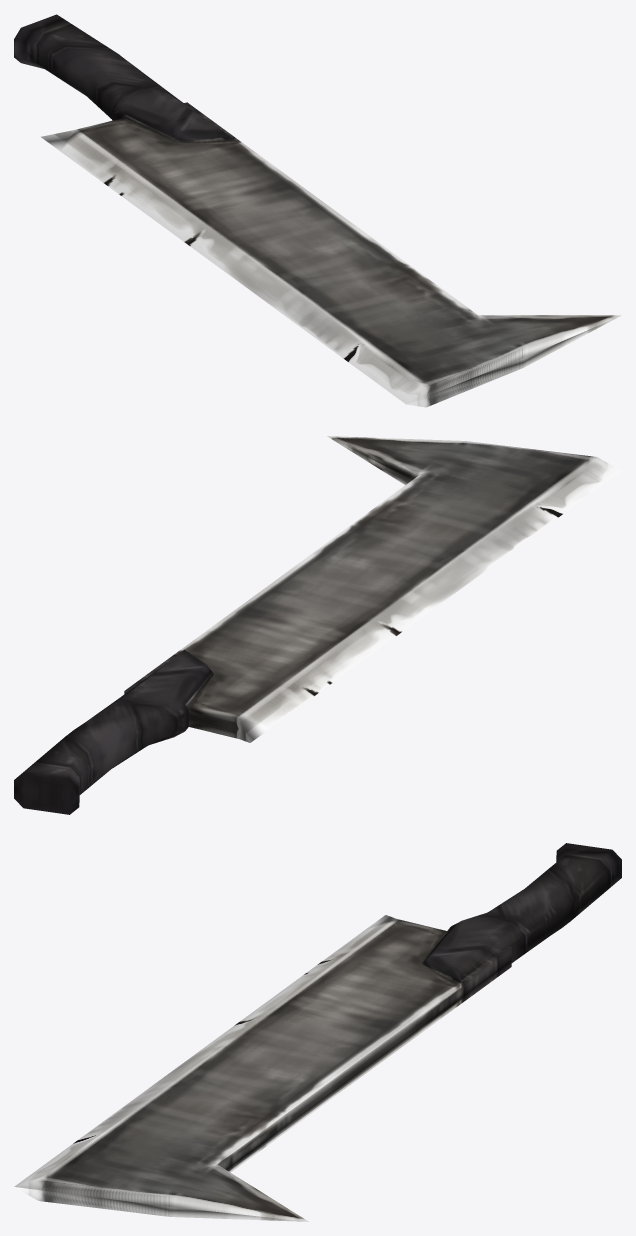
Rendered from OrcSwordB.fbx.
3 renders of one model, top to bottom at view 1: azimuth 30°, elevation 25°; view 2: azimuth 150°, elevation 25°; view 3: azimuth 330°, elevation 25°, orthographic.
Parts seen in each view (by area): view 1: OrcSwordB; view 2: OrcSwordB; view 3: OrcSwordB.
Boxes of the visible parts, x1,y1,x2,y2 form: OrcSwordB: (14, 14, 621, 407); OrcSwordB: (14, 436, 621, 814); OrcSwordB: (14, 843, 621, 1221).
Bounding box in the file's own units: 8.25 × 1.1 × 26.54.
